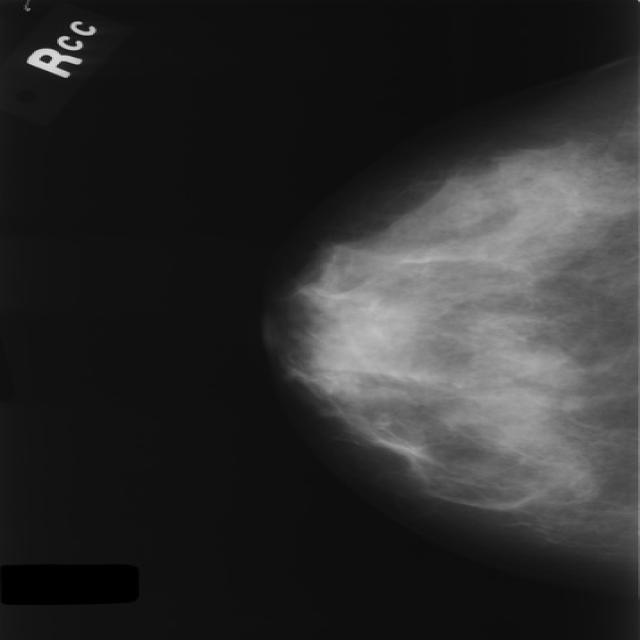tumour: (504, 344, 583, 388)
